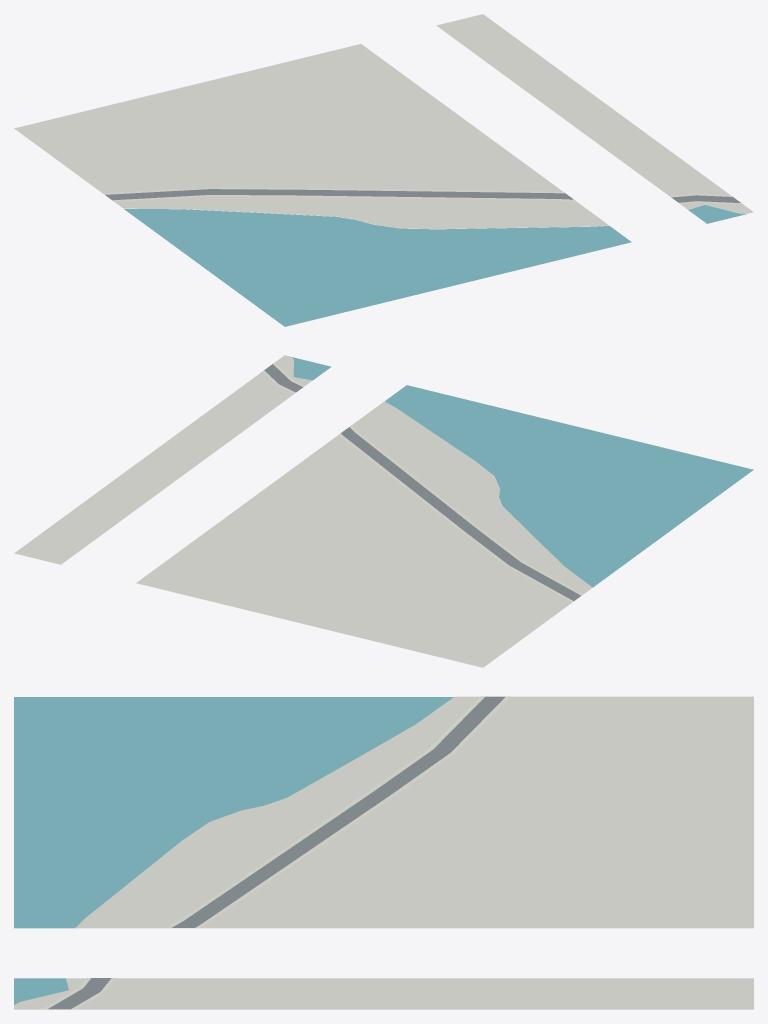
3 renders of one model, top to bottom at view 1: azimuth 30°, elevation 25°; view 2: azimuth 150°, elevation 25°; view 3: azimuth 270°, elevation 25°, orthographic. The views are drawn at different scales.
Visible parts, largest first — view 1: city; view 2: city; view 3: city.
Part boxes in pixels (x1,y1,x2,y2): city: (14, 14, 753, 326); city: (14, 355, 753, 667); city: (14, 696, 753, 1009).
Size of the model in its own units: 500 by 0.4 by 500.
